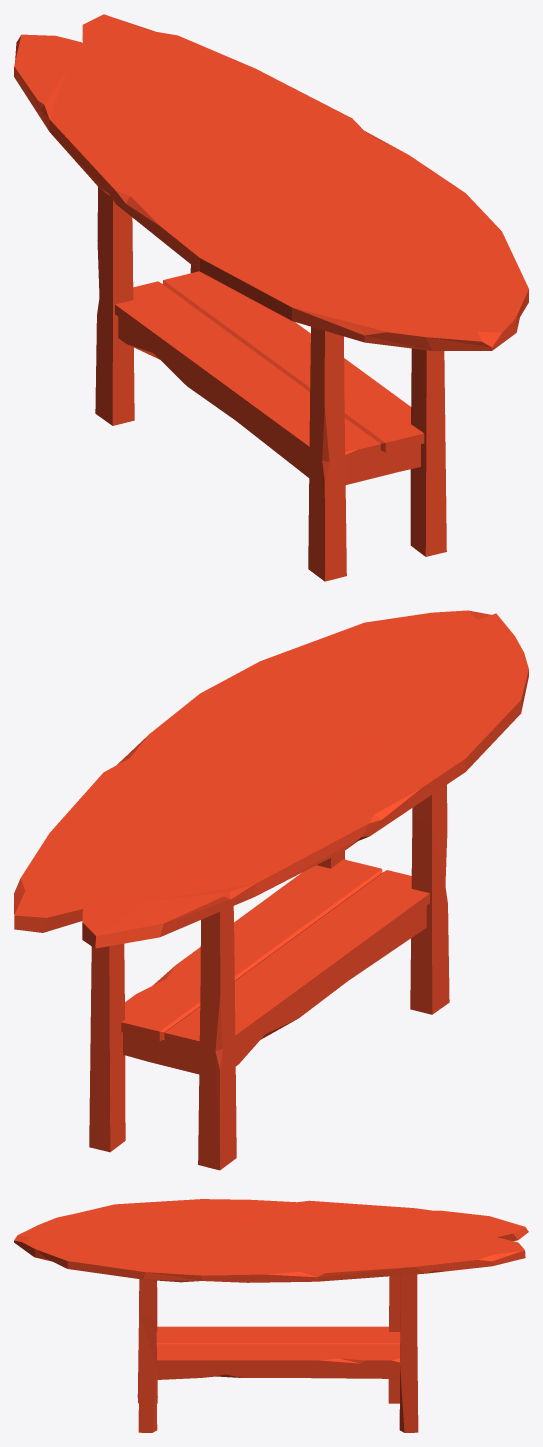
Rendered from SM_Table_Surf_City.fbx.
The picture shows the model from 3 angles, top to bottom: view 1: azimuth 30°, elevation 25°; view 2: azimuth 150°, elevation 25°; view 3: azimuth 270°, elevation 25°; orthographic projection. The views are drawn at different scales.
Parts seen in each view (by area): view 1: SM_Table_Surf_City; view 2: SM_Table_Surf_City; view 3: SM_Table_Surf_City.
Boxes of the visible parts, bbox=[...] form: SM_Table_Surf_City: bbox=[14, 14, 528, 581]; SM_Table_Surf_City: bbox=[14, 610, 528, 1170]; SM_Table_Surf_City: bbox=[14, 1199, 528, 1432].
Bounding box in the file's own units: 0.7481 × 0.8116 × 2.13.
